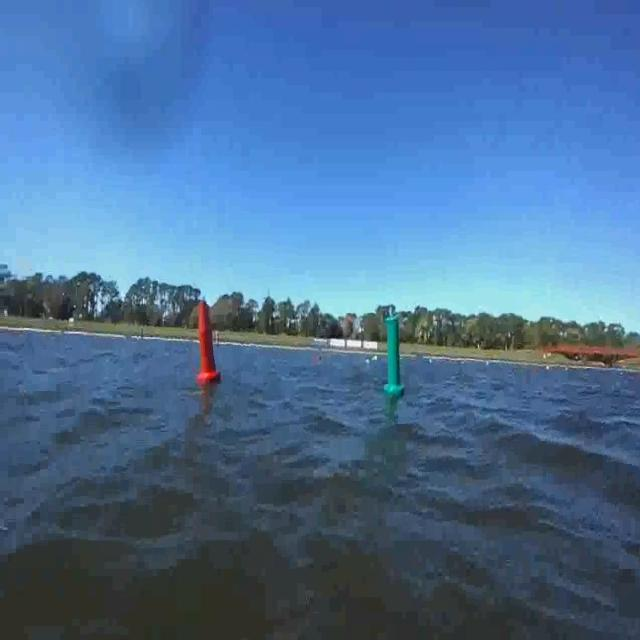green-column-buoy: (384, 316, 405, 396)
red-column-buoy: (196, 301, 220, 385)
